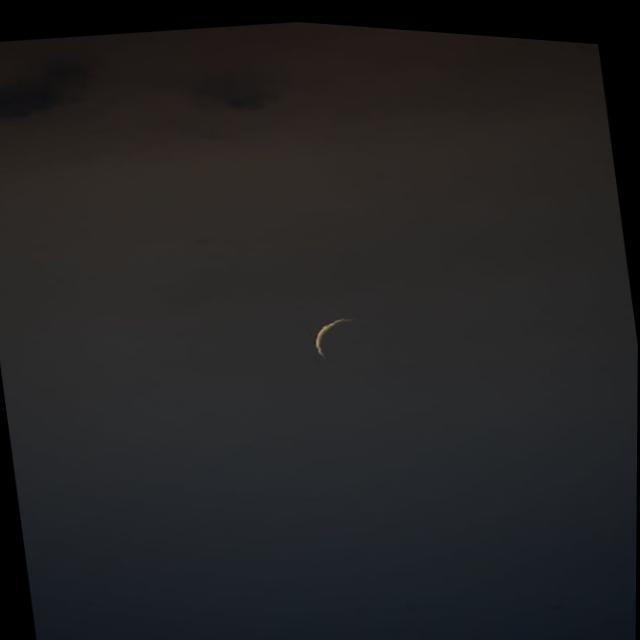moon: (296, 296, 379, 372)
